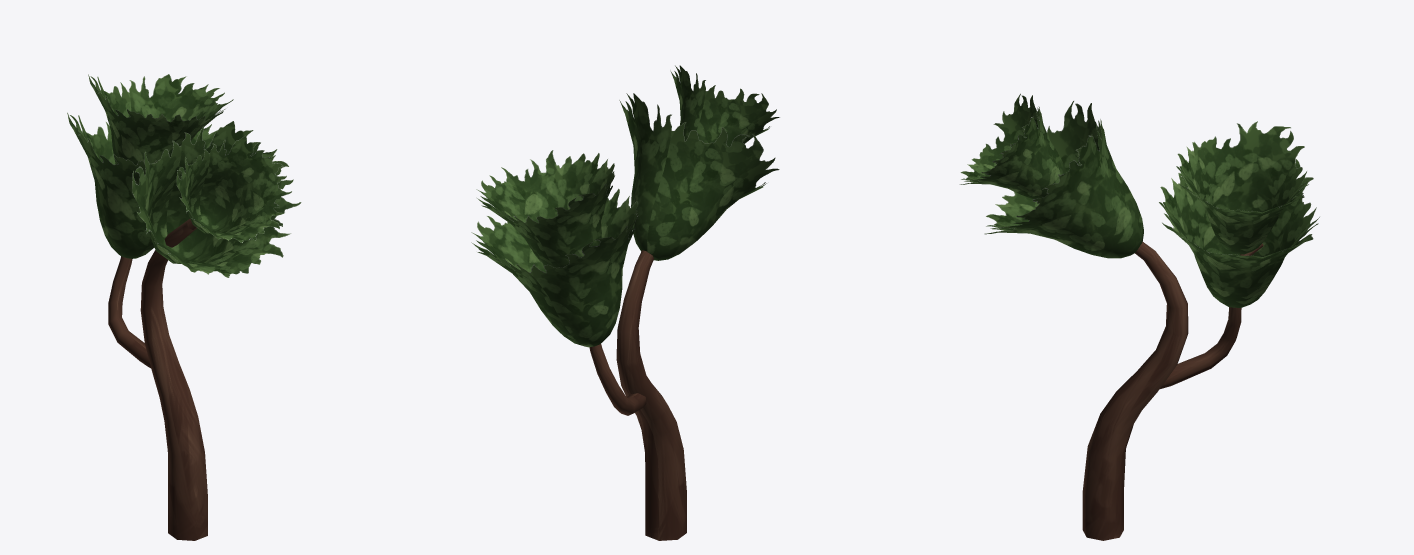
The model's file is Tree1.fbx.
3 renders of one model, left to right at view 1: azimuth 30°, elevation 25°; view 2: azimuth 150°, elevation 25°; view 3: azimuth 270°, elevation 25°, orthographic. The views are drawn at different scales.
Parts seen in each view (by area): view 1: pCylinder1, pSphere4, pSphere3, pSphere2, pSphere1, pCylinder5; view 2: pSphere4, pSphere1, pSphere2, pCylinder1, pSphere3, pCylinder5; view 3: pSphere4, pSphere2, pCylinder1, pSphere1, pSphere3, pCylinder5.
Boxes of the visible parts, left/top/right/bottom form: pCylinder1: left=140, top=219, right=207, bottom=540; pSphere4: left=132, top=121, right=301, bottom=277; pSphere3: left=176, top=135, right=291, bottom=242; pSphere2: left=88, top=74, right=233, bottom=164; pSphere1: left=67, top=112, right=217, bottom=258; pCylinder5: left=108, top=256, right=151, bottom=368; pSphere4: left=619, top=93, right=779, bottom=260; pSphere1: left=471, top=188, right=638, bottom=347; pSphere2: left=476, top=150, right=614, bottom=267; pCylinder1: left=616, top=250, right=686, bottom=540; pSphere3: left=670, top=65, right=779, bottom=146; pCylinder5: left=589, top=344, right=646, bottom=415; pSphere4: left=984, top=101, right=1143, bottom=258; pSphere2: left=1176, top=121, right=1309, bottom=254; pCylinder1: left=1082, top=242, right=1188, bottom=540; pSphere1: left=1159, top=155, right=1319, bottom=307; pSphere3: left=959, top=93, right=1066, bottom=198; pCylinder5: left=1160, top=243, right=1263, bottom=388.
Bounding box in the file's own units: 0.1668 × 0.2594 × 0.2371.
